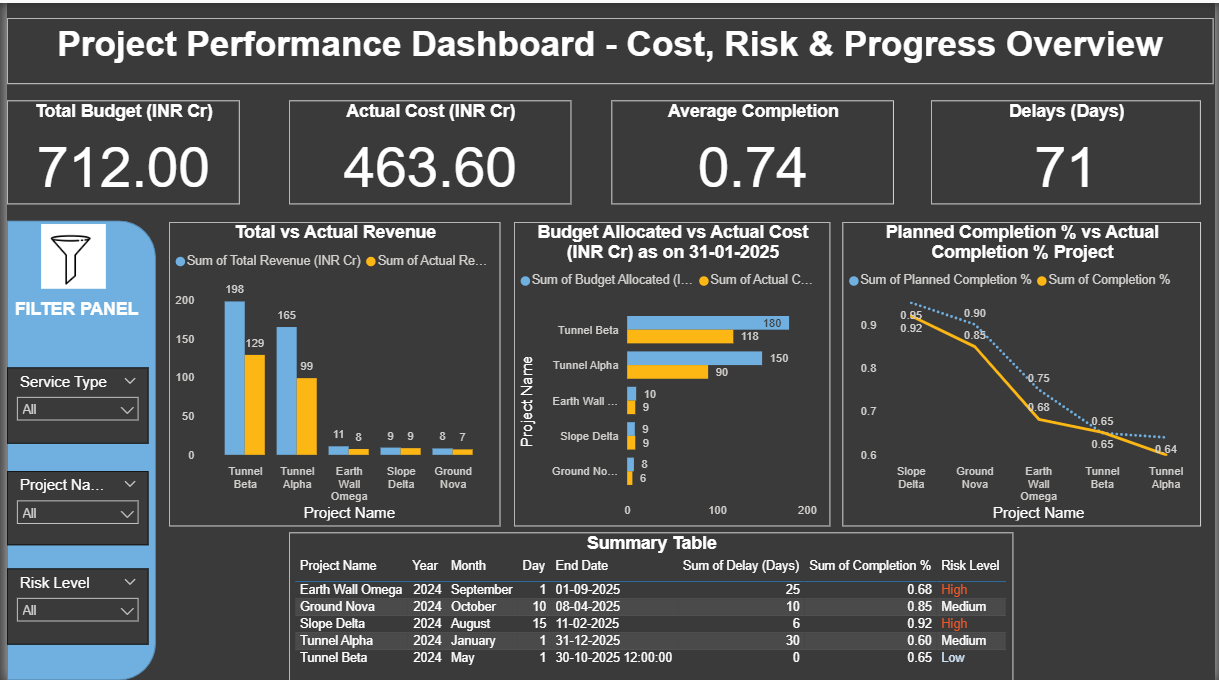

This screenshot's page, from the dashboard's own definition file:
{"tool":"powerbi","page":{"name":"Page 1","canvas":[1280,720],"ordinal":0},"visuals":[{"type":"card","title":"Total Budget (INR Cr)","fields":{"Values":["Sum(Sheet1.Budget Allocated (INR Cr))"]},"box":[0,103.5,246.6,110.1],"z":0},{"type":"card","title":"Actual Cost (INR Cr)","fields":{"Values":["Sum(Sheet1.Actual Cost (INR Cr)  ason 31-01-2025)"]},"box":[299.5,103.5,299.5,110.1],"z":1000},{"type":"card","title":"Average Completion","fields":{"Values":["Avg(Sheet1.Completion %)"]},"box":[640.7,103.5,299.5,110.1],"z":2000},{"type":"card","title":"Delays (Days)","fields":{"Values":["Sum(Sheet1.Delay (Days))"]},"box":[979.8,103.4,286.3,109.8],"z":3000},{"type":"shape","box":[0,231.3,157.9,487.7],"z":4000},{"type":"slicer","fields":{"Values":["Sheet1.Service Type"]},"box":[0,386.5,150.3,80.5],"z":5000},{"type":"slicer","fields":{"Values":["Sheet1.Project Name"]},"box":[0,495.7,150.3,78.7],"z":6000},{"type":"slicer","fields":{"Values":["Sheet1.Risk Level"]},"box":[0,599.4,150.3,80.5],"z":7000},{"type":"clusteredColumnChart","title":"Total vs Actual Revenue","fields":{"Y":["Sum(Sheet1.Total Revenue (INR Cr))","Sum(Sheet1.Actual Revenue (INR Cr) ason 31-01-2025)"],"Category":["Sheet1.Project Name"]},"box":[171.8,232.2,351.5,322.9],"z":8000},{"type":"clusteredBarChart","title":"Budget Allocated vs Actual Cost (INR Cr)  as on 31-01-2025","fields":{"Y":["Sum(Sheet1.Budget Allocated (INR Cr))","Sum(Sheet1.Actual Cost (INR Cr)  ason 31-01-2025)"],"Category":["Sheet1.Project Name"]},"box":[537.6,232.2,335.6,322.9],"z":9000},{"type":"lineChart","title":"Planned Completion % vs Actual Completion % Project","fields":{"Y":["Sum(Sheet1.Planned Completion %)","Sum(Sheet1.Completion %)"],"Category":["Sheet1.Project Name"]},"box":[886,232.2,380.2,322.9],"z":10000},{"type":"tableEx","title":"Summary Table","fields":{"Values":["Sheet1.Project Name","Sheet1.Start Date.Variation.Date Hierarchy.Year","Sheet1.Start Date.Variation.Date Hierarchy.Month","Sheet1.Start Date.Variation.Date Hierarchy.Day","Sheet1.End Date","Sum(Sheet1.Delay (Days))","Sum(Sheet1.Completion %)","Sheet1.Risk Level"]},"box":[299,561.5,768.3,157.5],"z":11000},{"type":"image","box":[17.9,229,105.6,78.7],"z":12000},{"type":"textbox","box":[3.1,307.9,150,35.9],"z":13000},{"type":"textbox","box":[0,16.1,1279.4,69.8],"z":14000}]}

Visuals, with their boxes in screenshot pixels (x1, y1, x2, y2), scaled from the page's 1280x720 canvas onto the 1219x680 screenshot:
"Total Budget (INR Cr)" card: crop(0, 98, 235, 202)
"Actual Cost (INR Cr)" card: crop(285, 98, 570, 202)
"Average Completion" card: crop(610, 98, 895, 202)
"Delays (Days)" card: crop(933, 98, 1206, 201)
shape: crop(0, 218, 150, 679)
slicer - Sheet1.Service Type: crop(0, 365, 143, 441)
slicer - Sheet1.Project Name: crop(0, 468, 143, 542)
slicer - Sheet1.Risk Level: crop(0, 566, 143, 642)
"Total vs Actual Revenue" clusteredColumnChart: crop(164, 219, 498, 524)
"Budget Allocated vs Actual Cost (INR Cr)  as on 31-01-2025" clusteredBarChart: crop(512, 219, 832, 524)
"Planned Completion % vs Actual Completion % Project" lineChart: crop(844, 219, 1206, 524)
"Summary Table" tableEx: crop(285, 530, 1016, 679)
image: crop(17, 216, 118, 291)
textbox: crop(3, 291, 146, 325)
textbox: crop(0, 15, 1218, 81)
